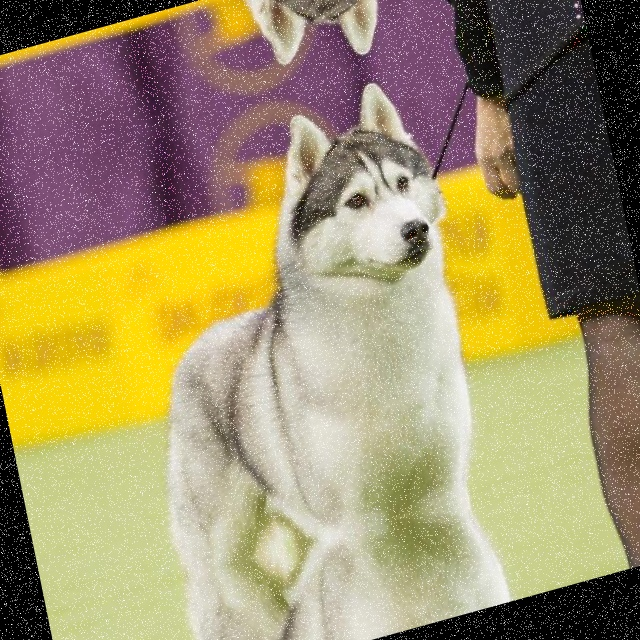dog: (62, 61, 505, 586), (150, 488, 527, 640), (39, 0, 415, 145)
